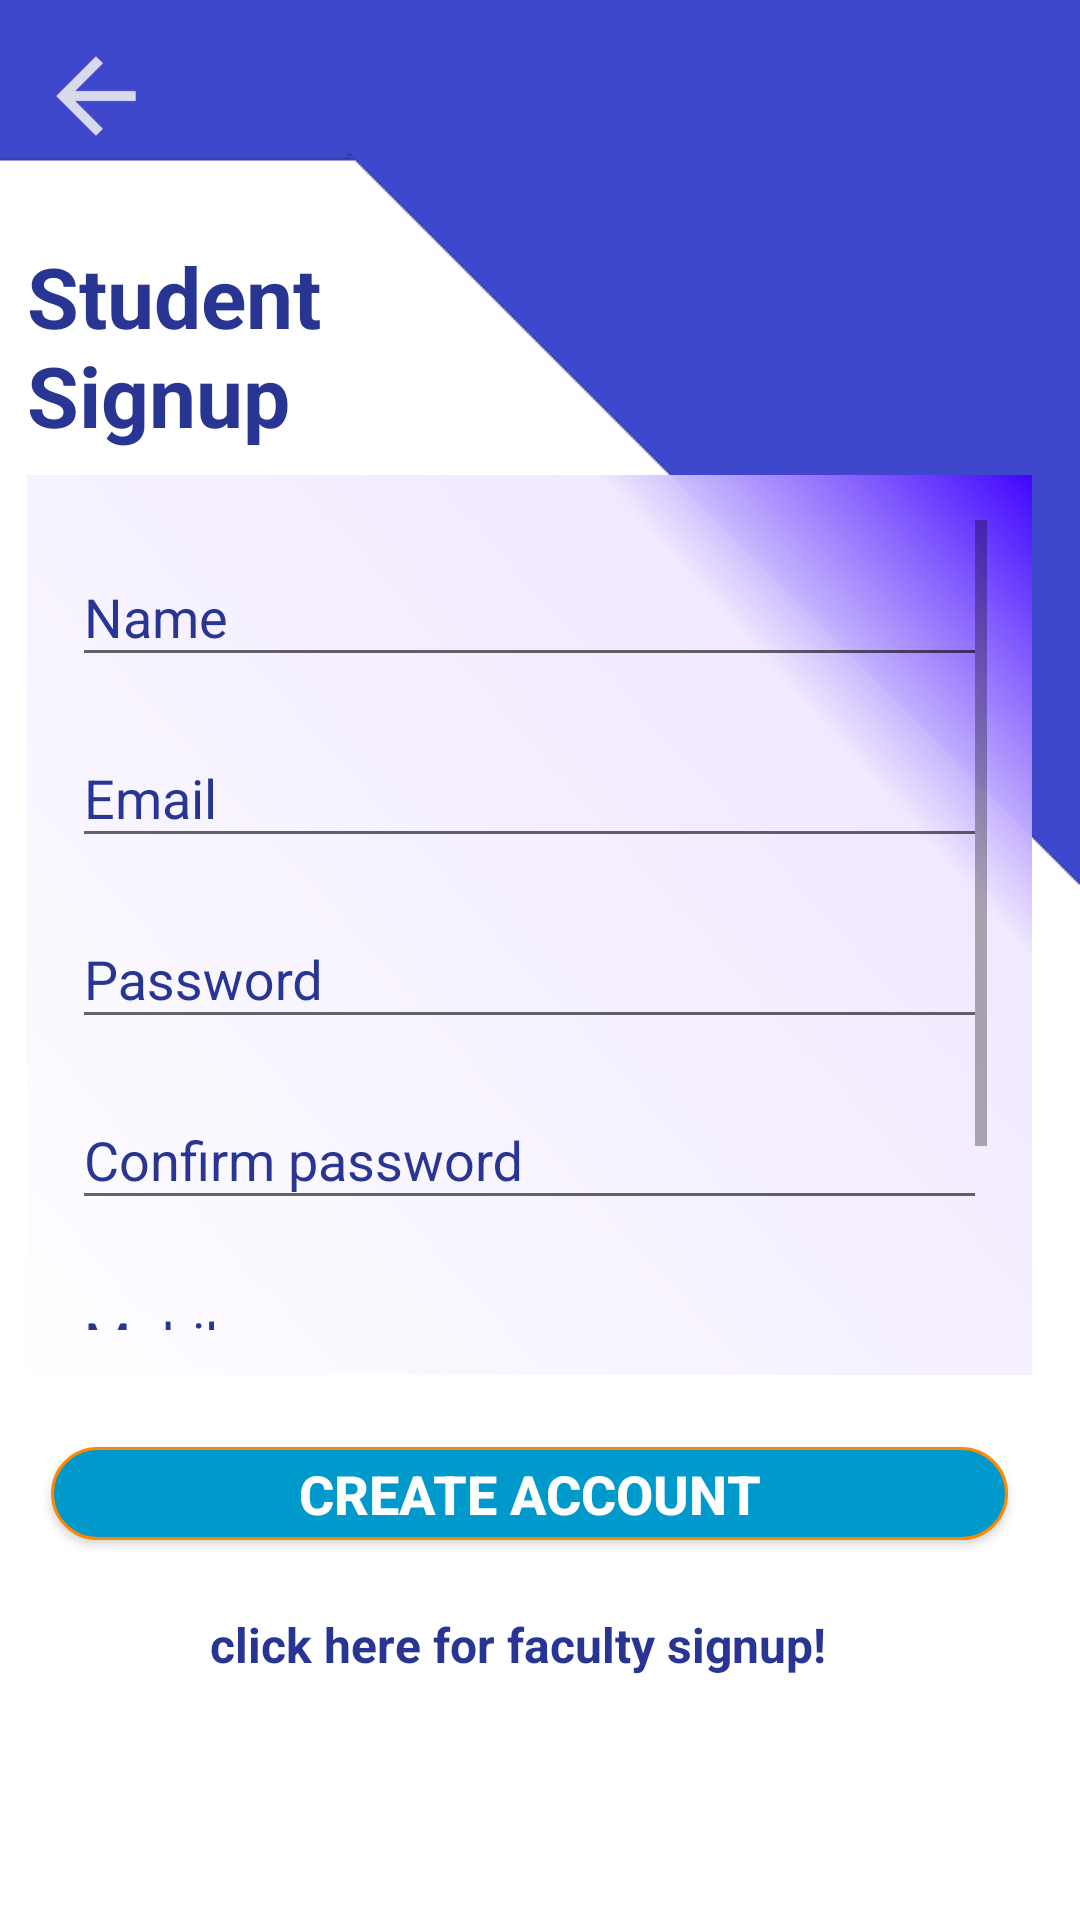

Point at icon controls on the screen. Image size 1080px x 1920px, points as point (x, y).
back arrow: point (96, 96)
